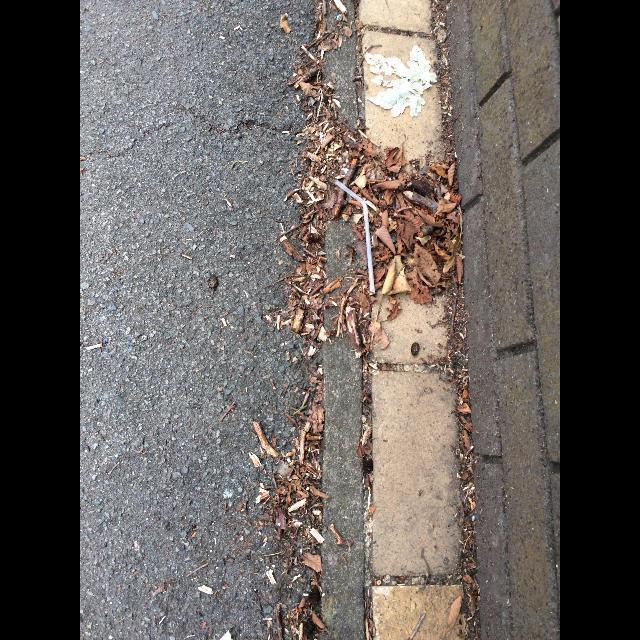Plastic: (335, 180, 375, 292)
